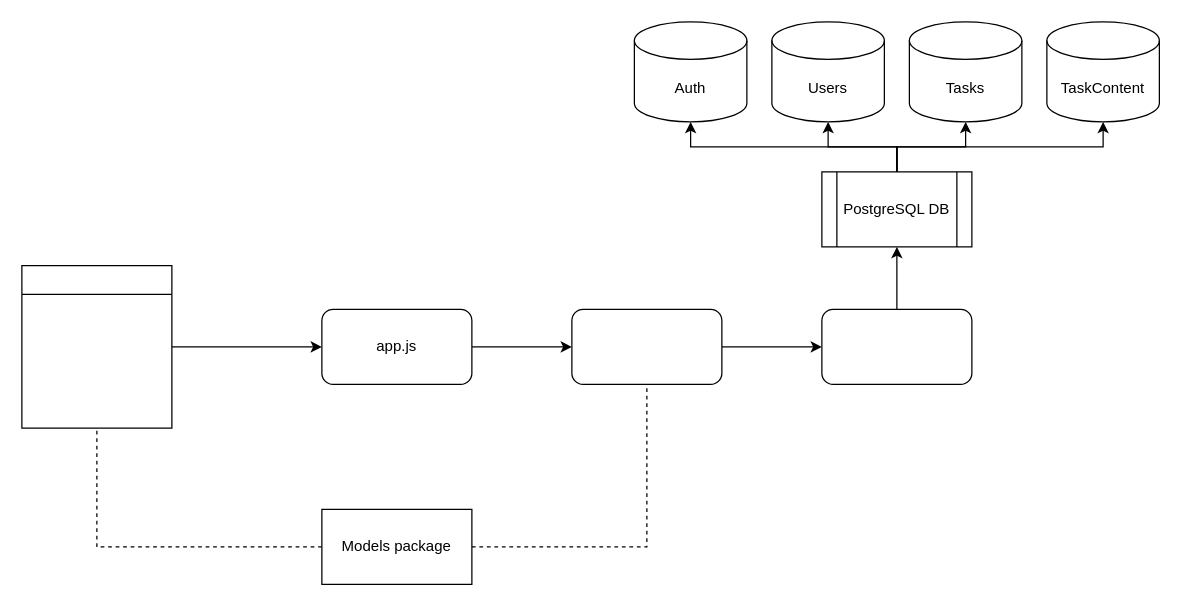
Image size: 1181x606. Some labels were removed from this diagram. Here are the shapes that lost their labels. From the top down, the centre of each, then its label:
At pixel 96 346: "nextjs UI".
At pixel 646 346: "controller.js".
At pixel 896 346: "DatabaseConnector".
